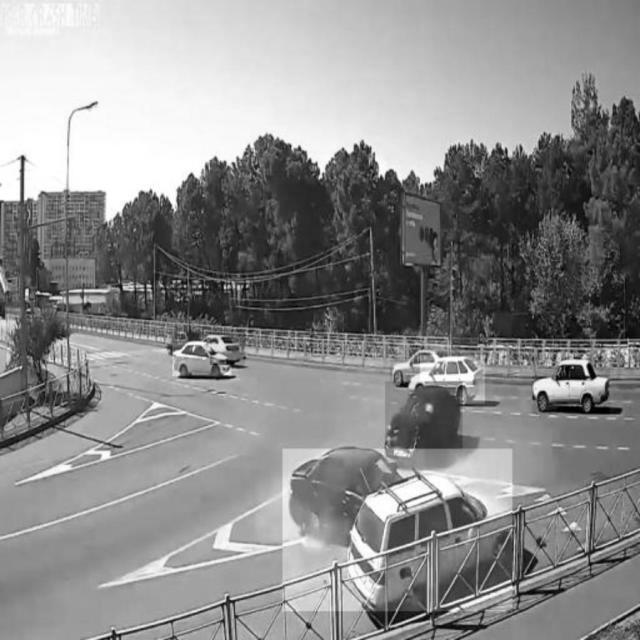accident: (283, 450, 513, 612)
vehicle: (386, 382, 463, 460), (533, 359, 610, 416), (420, 355, 484, 403), (173, 342, 231, 376), (390, 348, 432, 390), (210, 330, 245, 365)
